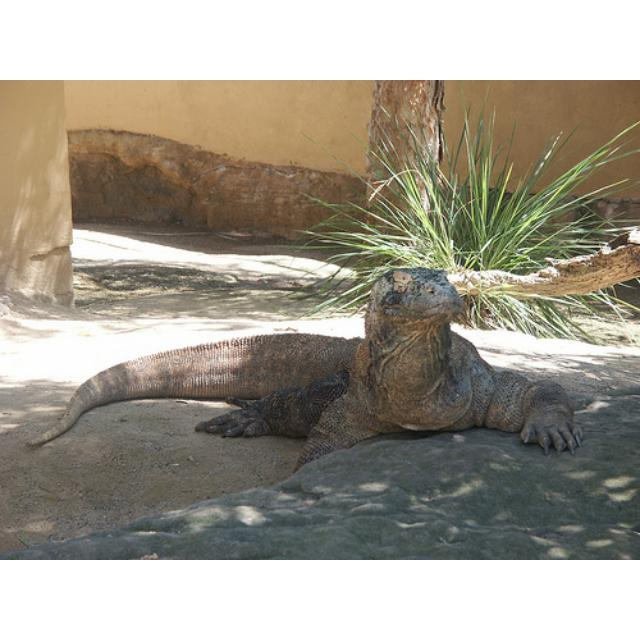KomodoDragon: (23, 262, 584, 474)
